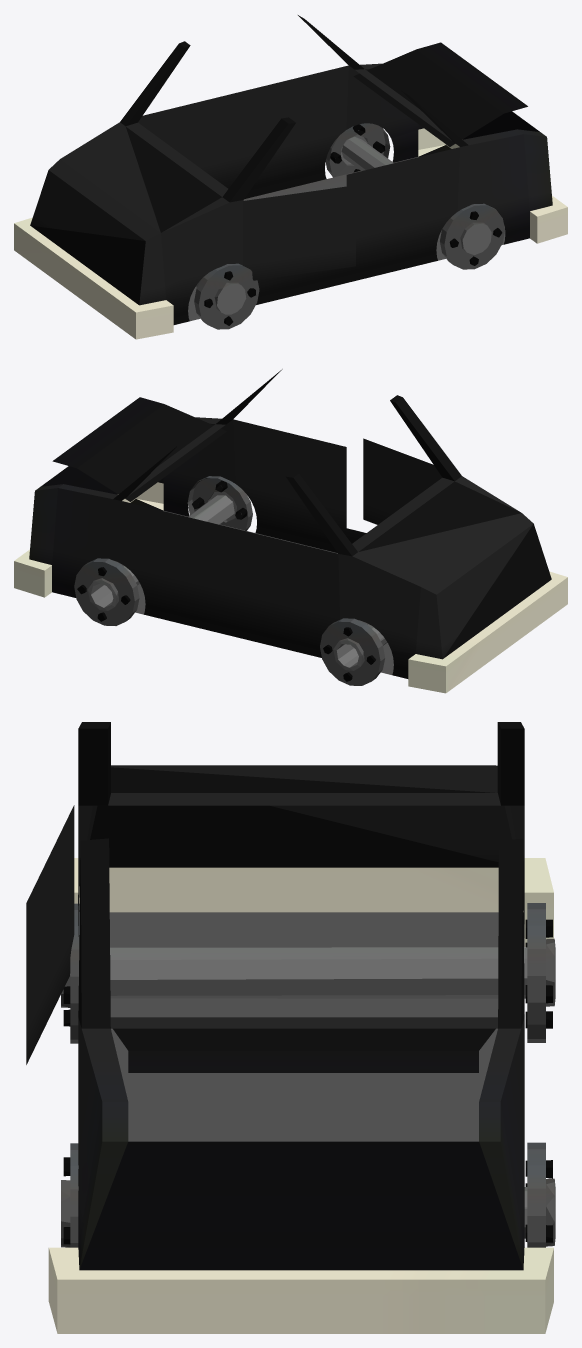
File: Carro4.glb
3 views of the same model, one above another, from view 1: azimuth 30°, elevation 25°; view 2: azimuth 150°, elevation 25°; view 3: azimuth 270°, elevation 25° (orthographic). The views are drawn at different scales.
Visible parts, largest first — view 1: Carro4; view 2: Carro4; view 3: Carro4.
Part boxes in pixels (<box>): Carro4: <box>14,15,567,339</box>; Carro4: <box>14,369,567,693</box>; Carro4: <box>26,722,555,1333</box>.
Size of the model in its own units: 4.17 by 1.74 by 2.21.
Materials: 1 (1 with a texture image).
